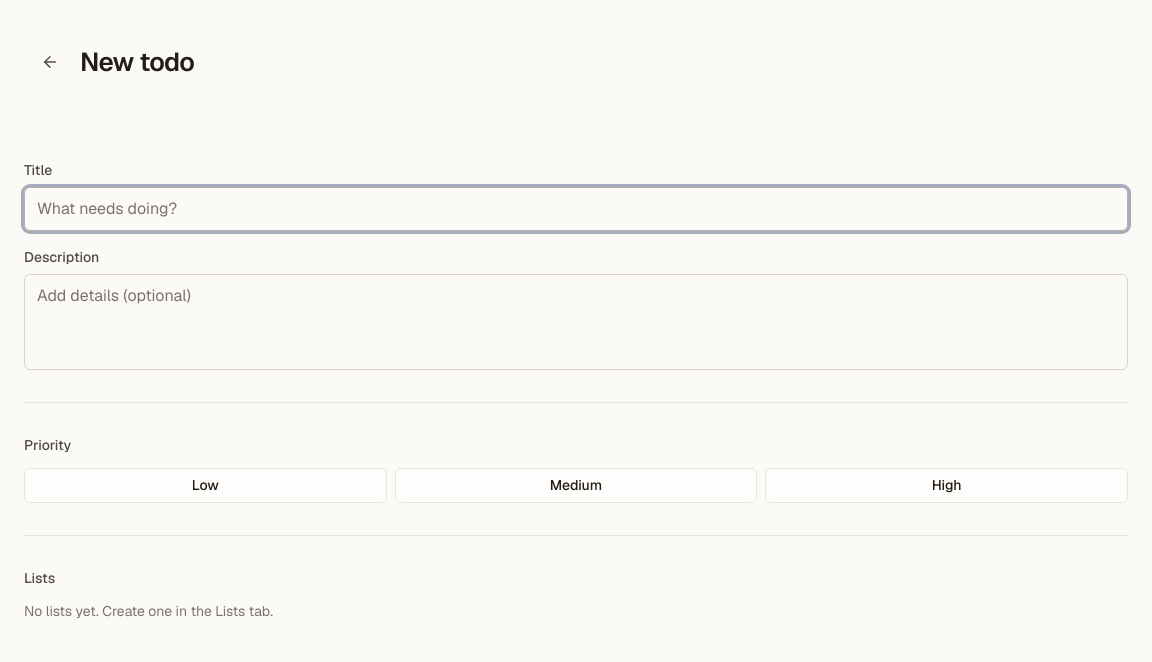
Test: NewTodoPage › shows error message on create failure
This screenshot has width=1152, height=662.
In the field labelled "Title": (576, 209) [24, 187, 1128, 231], type "x"
(page scrolled)
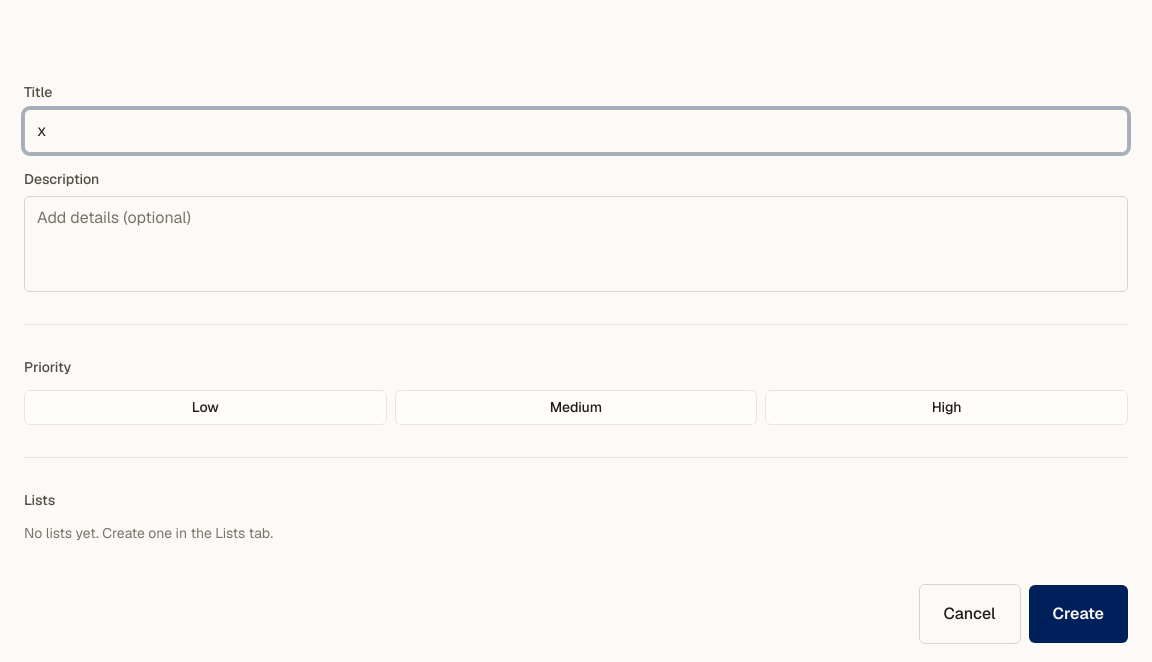
Click the button "Create": (1078, 614) [1029, 585, 1128, 643]
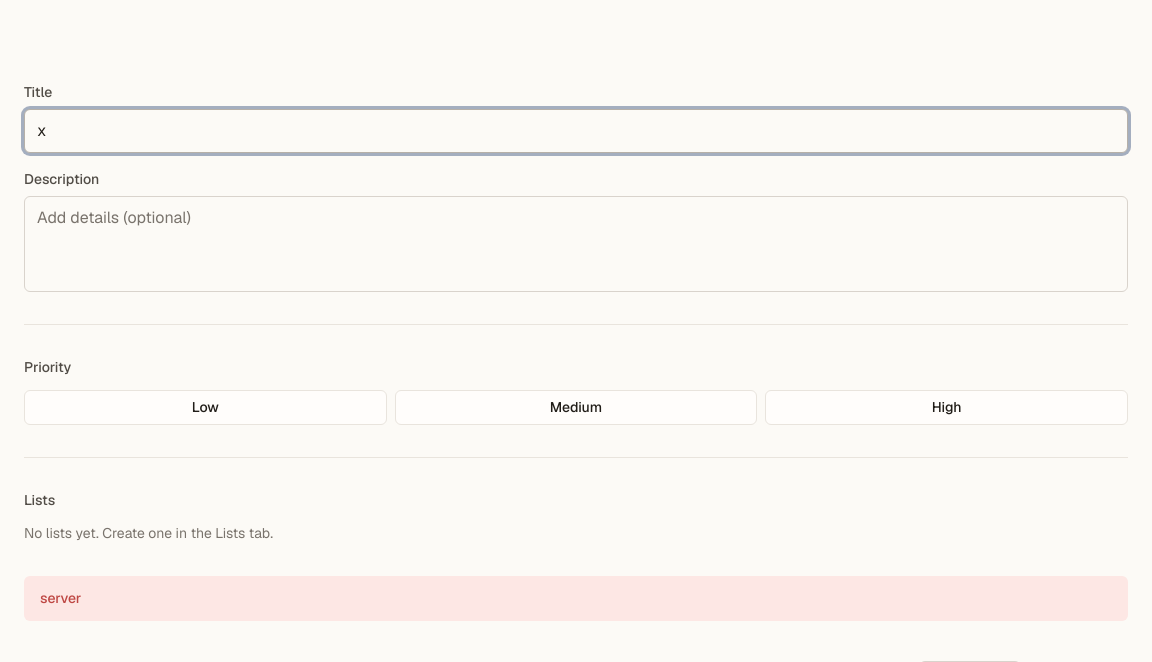
Now the message reads "server", box [40, 589, 81, 607]
